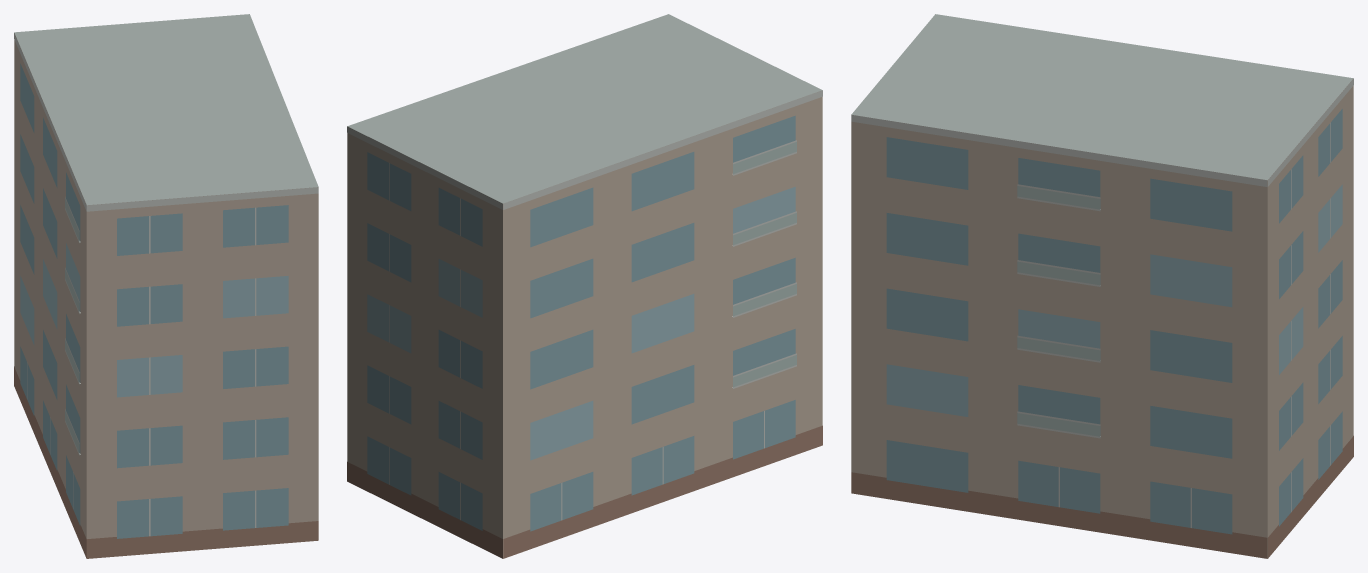
Rendered from survey-upis-32888520.glb.
The picture shows the model from 3 angles, left to right: view 1: azimuth 30°, elevation 25°; view 2: azimuth 150°, elevation 25°; view 3: azimuth 270°, elevation 25°; orthographic projection. The views are drawn at different scales.
Visible parts, largest first — view 1: survey-upis-32888520.tmp; view 2: survey-upis-32888520.tmp; view 3: survey-upis-32888520.tmp.
Boxes of the visible parts, x1,y1,x2,y2 form: survey-upis-32888520.tmp: (14,14,318,558); survey-upis-32888520.tmp: (347,14,822,558); survey-upis-32888520.tmp: (851,14,1353,558).
Size of the model in its own units: 12.53 by 13.3 by 16.01.
